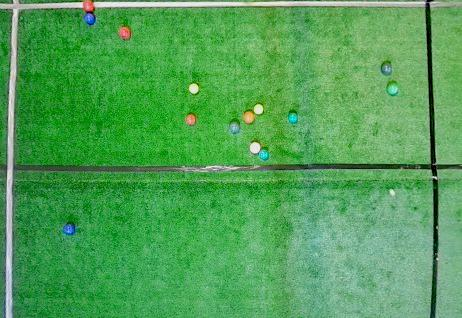blue: (63, 223, 75, 235), (84, 13, 95, 25)
green: (386, 82, 398, 95), (228, 121, 240, 134), (381, 62, 392, 75), (258, 148, 269, 160), (288, 112, 298, 123)
red: (118, 26, 131, 40), (249, 141, 262, 154), (243, 111, 255, 124), (185, 113, 197, 126), (83, 0, 94, 12)
vline: (424, 0, 461, 317), (0, 0, 22, 317)
white: (389, 188, 395, 195)
yellow: (189, 82, 200, 95), (253, 103, 264, 115)
